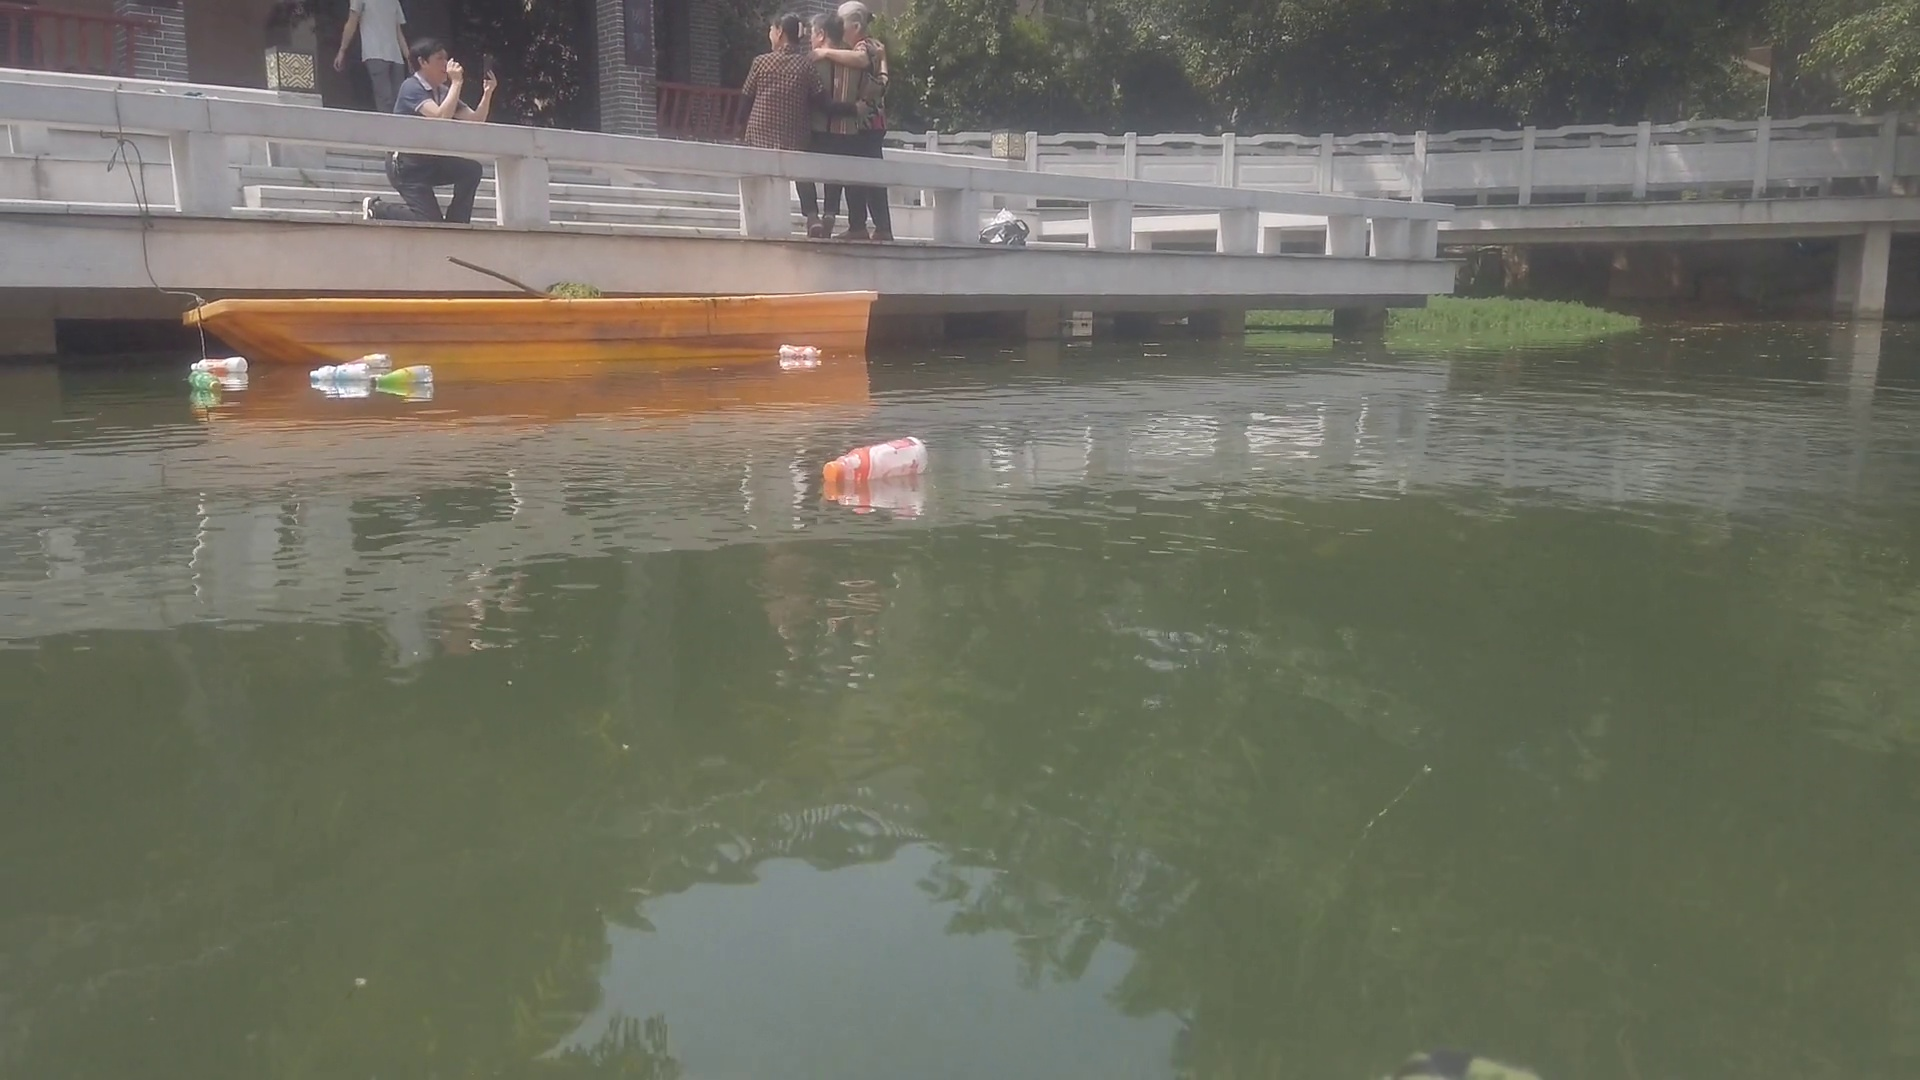bottle: (822, 435, 927, 480), (190, 353, 247, 375), (306, 367, 371, 385), (373, 365, 433, 382), (777, 343, 822, 360), (338, 355, 392, 367), (193, 373, 223, 392)
